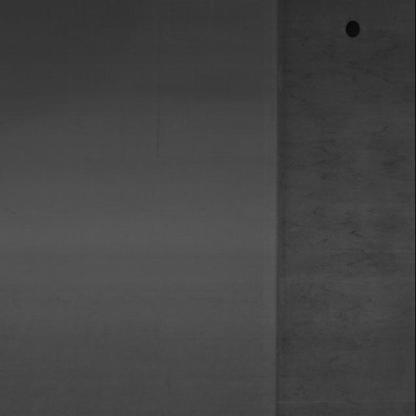punching_hole: (343, 19, 365, 39)
silk_spot: (290, 46, 409, 412)
welding_line: (266, 5, 288, 414)
